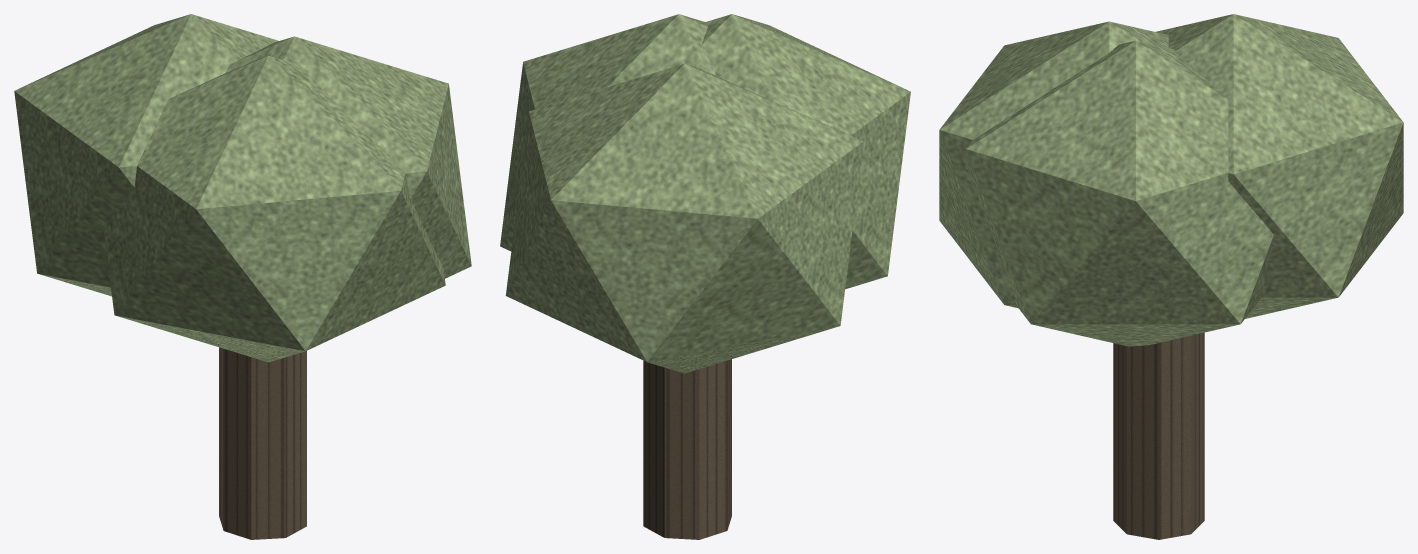
File: tree_shrubby_small.glb
3 views of the same model, side by side, from view 1: azimuth 30°, elevation 25°; view 2: azimuth 150°, elevation 25°; view 3: azimuth 270°, elevation 25° (orthographic).
Parts seen in each view (by area): view 1: leaf_192, leaf_193, leaf_191, tree_trunk-col_190; view 2: leaf_193, leaf_192, tree_trunk-col_190, leaf_191; view 3: leaf_191, leaf_193, tree_trunk-col_190, leaf_192.
Boxes of the visible parts, x1,y1,x2,y2 form: leaf_192: (103, 55, 445, 362); leaf_193: (14, 14, 278, 296); leaf_191: (225, 36, 471, 278); tree_trunk-col_190: (219, 347, 306, 539); leaf_193: (505, 63, 863, 373); leaf_192: (701, 14, 910, 289); tree_trunk-col_190: (643, 359, 731, 539); leaf_191: (500, 14, 715, 251); leaf_191: (966, 40, 1273, 346); leaf_193: (1156, 14, 1403, 318); tree_trunk-col_190: (1113, 332, 1204, 539); leaf_192: (939, 21, 1168, 307).
Size of the model in its own units: 1.47 by 1.89 by 1.63.
2 materials, 2 textured.
